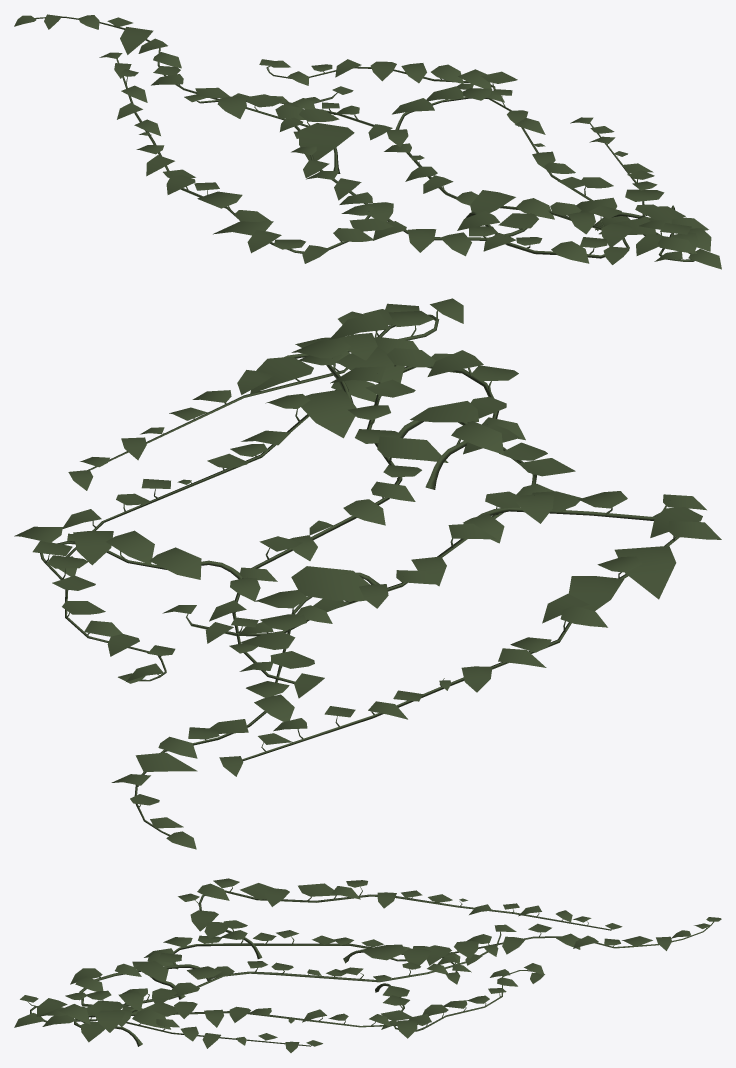
The model's file is scene_Ivy4.fbx.
3 renders of one model, top to bottom at view 1: azimuth 30°, elevation 25°; view 2: azimuth 150°, elevation 25°; view 3: azimuth 270°, elevation 25°, orthographic. The views are drawn at different scales.
Parts seen in each view (by area): view 1: Ivy4; view 2: Ivy4; view 3: Ivy4.
Part boxes in pixels (x1,y1,x2,y2): Ivy4: (14,14,721,269); Ivy4: (14,298,721,849); Ivy4: (14,878,721,1052).
Size of the model in its own units: 386 by 24.8 by 704.
